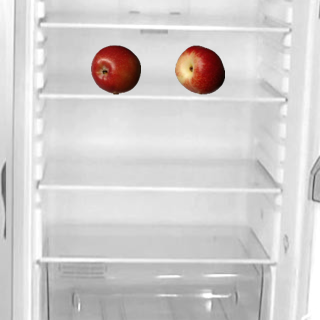Apple Braeburn: (90, 44, 140, 94)
Nectarine: (174, 44, 224, 94)
